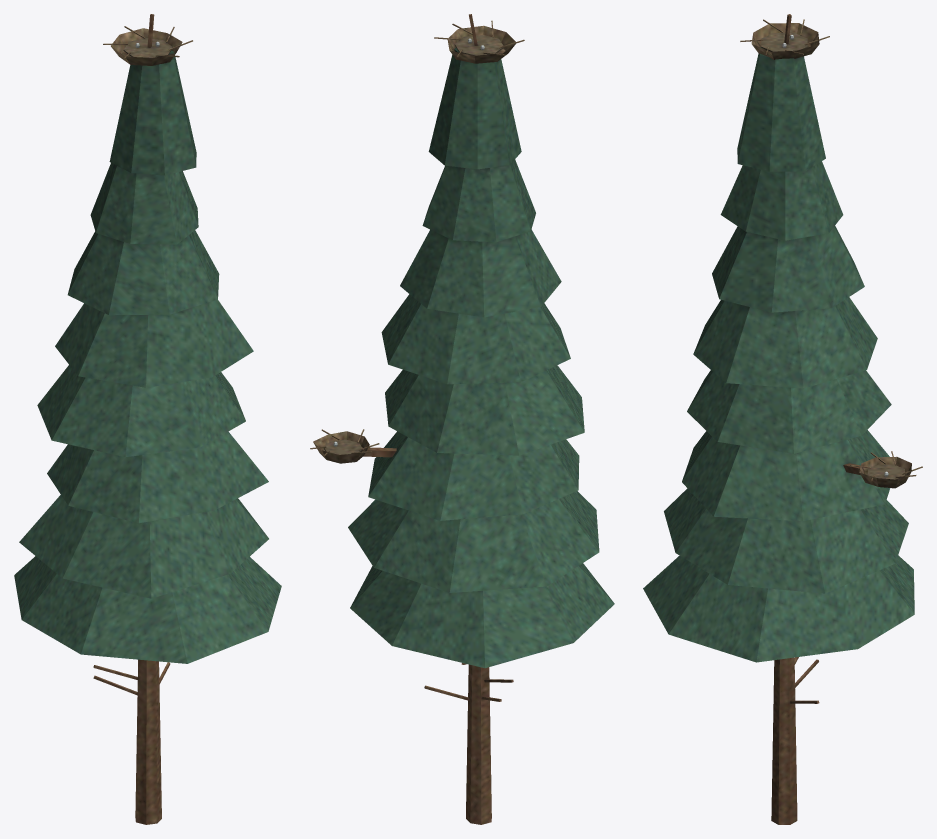
File: SM_Pine_Tall_B.fbx
3 views of the same model, side by side, from view 1: azimuth 30°, elevation 25°; view 2: azimuth 150°, elevation 25°; view 3: azimuth 270°, elevation 25° (orthographic).
Parts seen in each view (by area): view 1: SM_Pine_Tall_B; view 2: SM_Pine_Tall_B; view 3: SM_Pine_Tall_B.
Boxes of the visible parts, x1,y1,x2,y2 form: SM_Pine_Tall_B: [14, 14, 281, 824]; SM_Pine_Tall_B: [310, 14, 614, 824]; SM_Pine_Tall_B: [643, 14, 922, 824].
Size of what is drawn, in the model's own units: 1069 by 3561 by 1118.
1 material, 1 textured.
